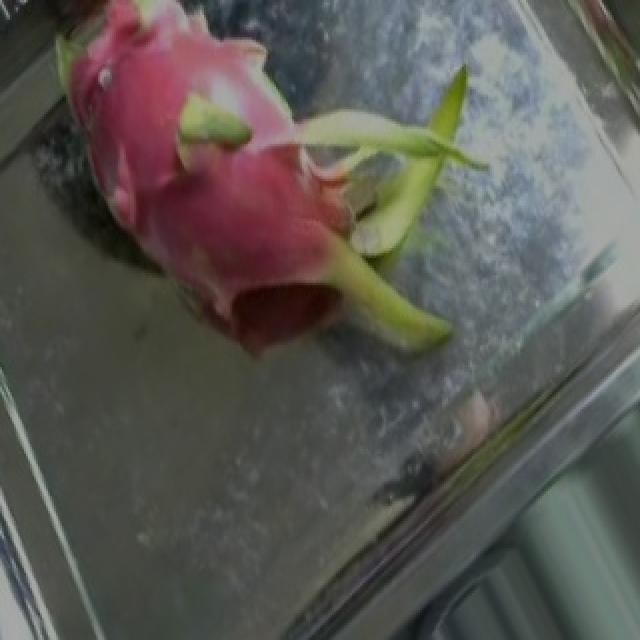fruit: (0, 0, 328, 429)
